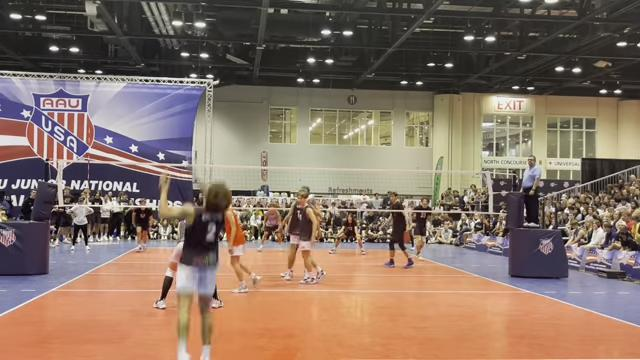battuta: (155, 169, 232, 357)
